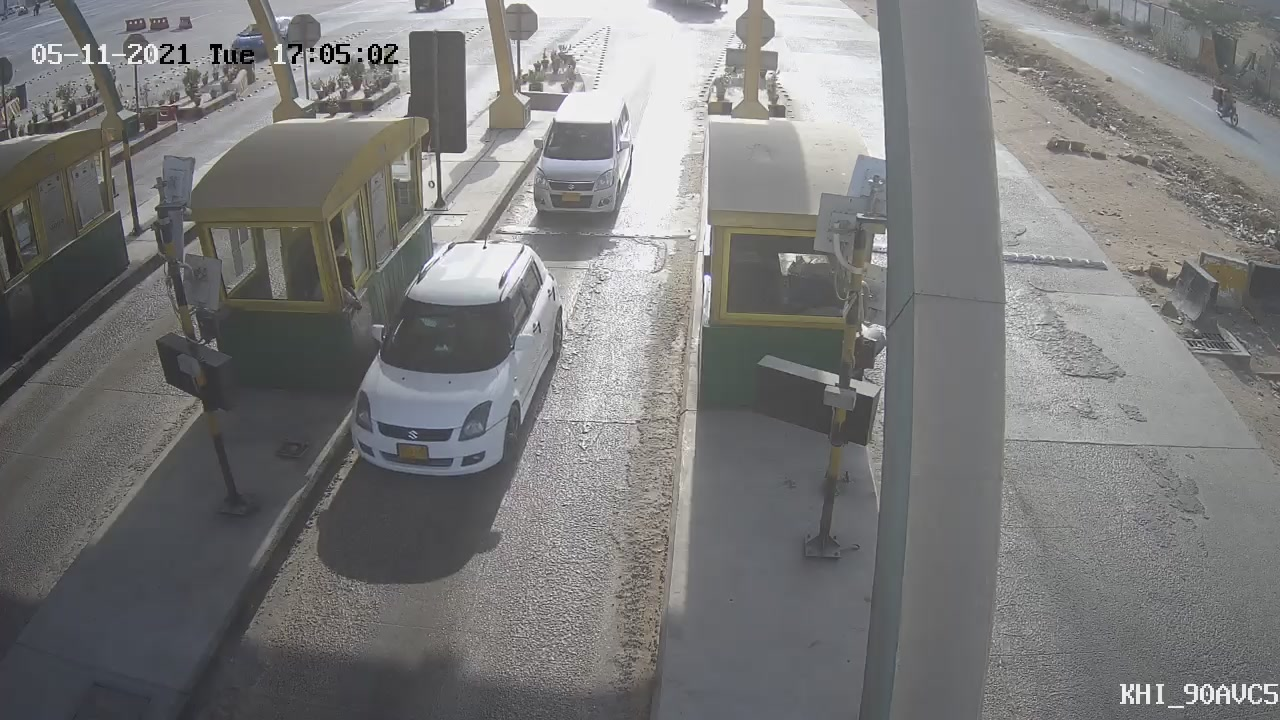F1: (326, 219, 581, 495), (520, 76, 649, 240)
